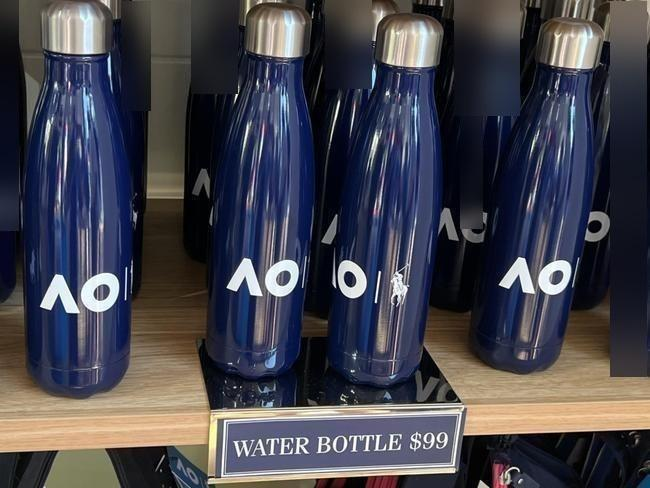gym bottle: (463, 16, 607, 374), (333, 3, 447, 384), (24, 1, 131, 401), (203, 1, 313, 377)
